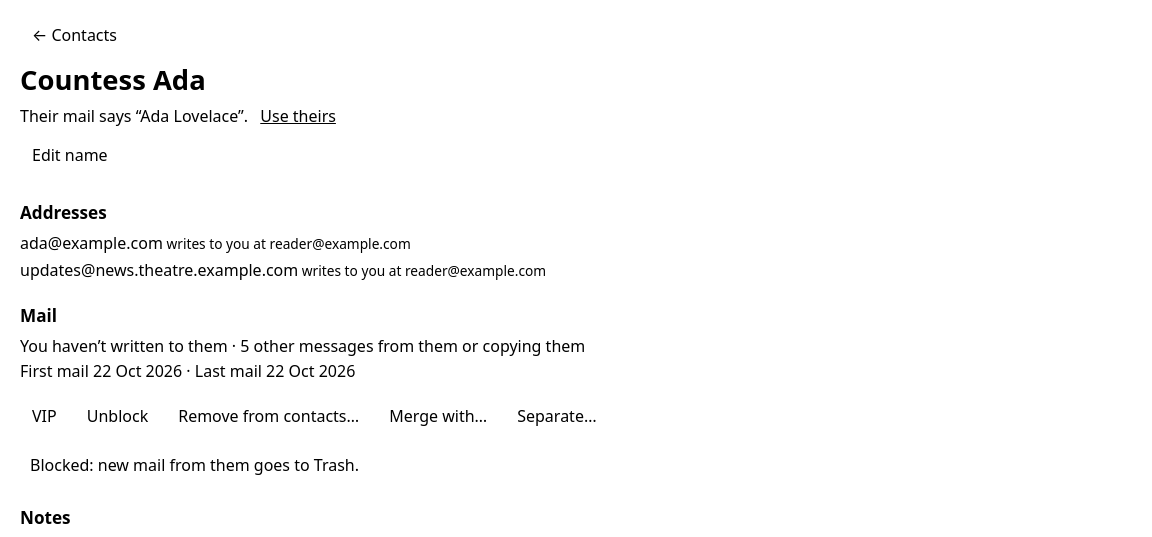
a contact's page (#816) › after Separate on a server that does not say, claims nothing
The width and height of the screenshot is (1152, 537).
Click the button "Separate…".
click(557, 417)  # box top-left (505, 398), bottom-right (609, 436)
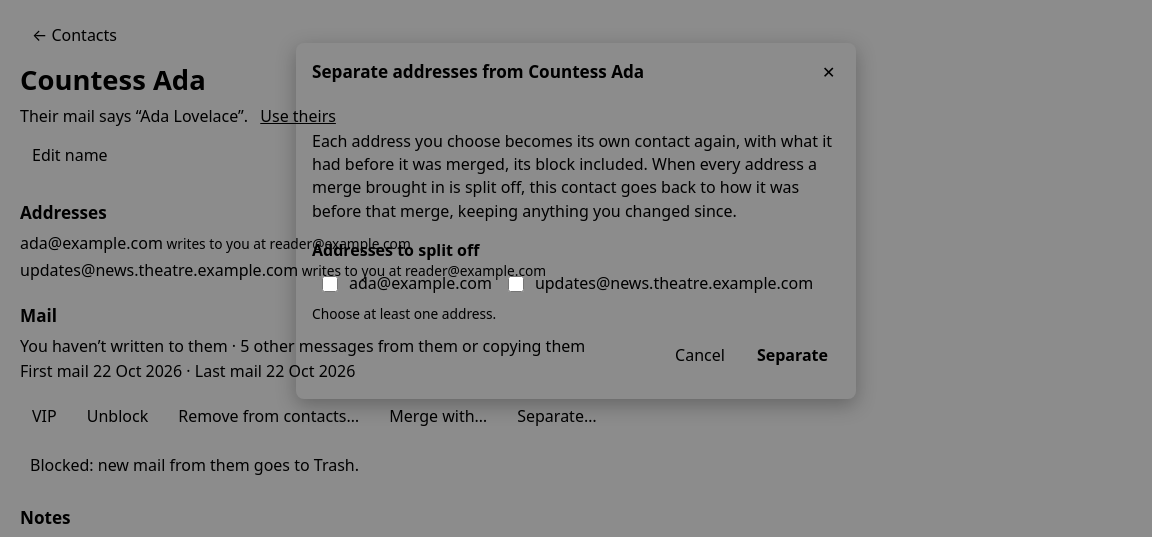
Click the label "updates@news.theatre.example.com".
click(659, 284)  # box top-left (498, 266), bottom-right (819, 301)
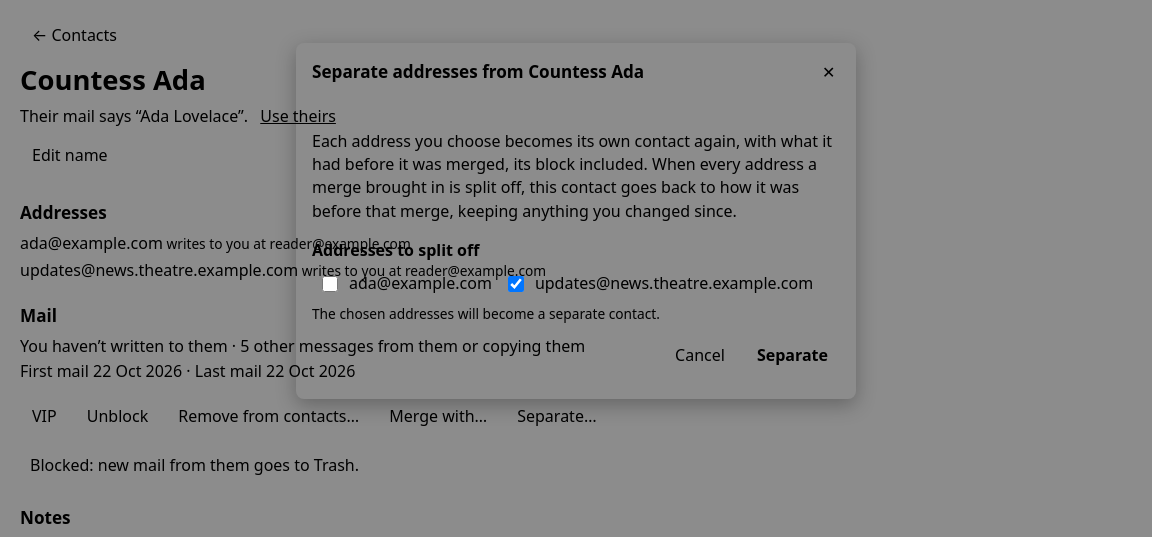
Click the button "Separate".
click(792, 355)  # box top-left (745, 336), bottom-right (840, 375)
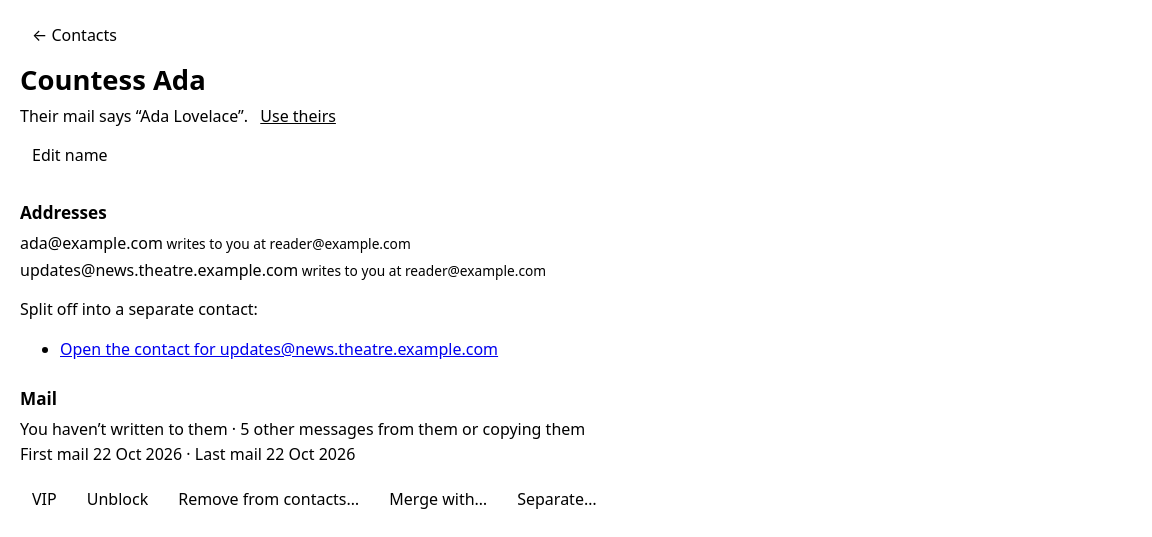
Check: the message with class "contact-separated" shows "Split off into a separate contact:", box top-left (20, 298), bottom-right (258, 320)
